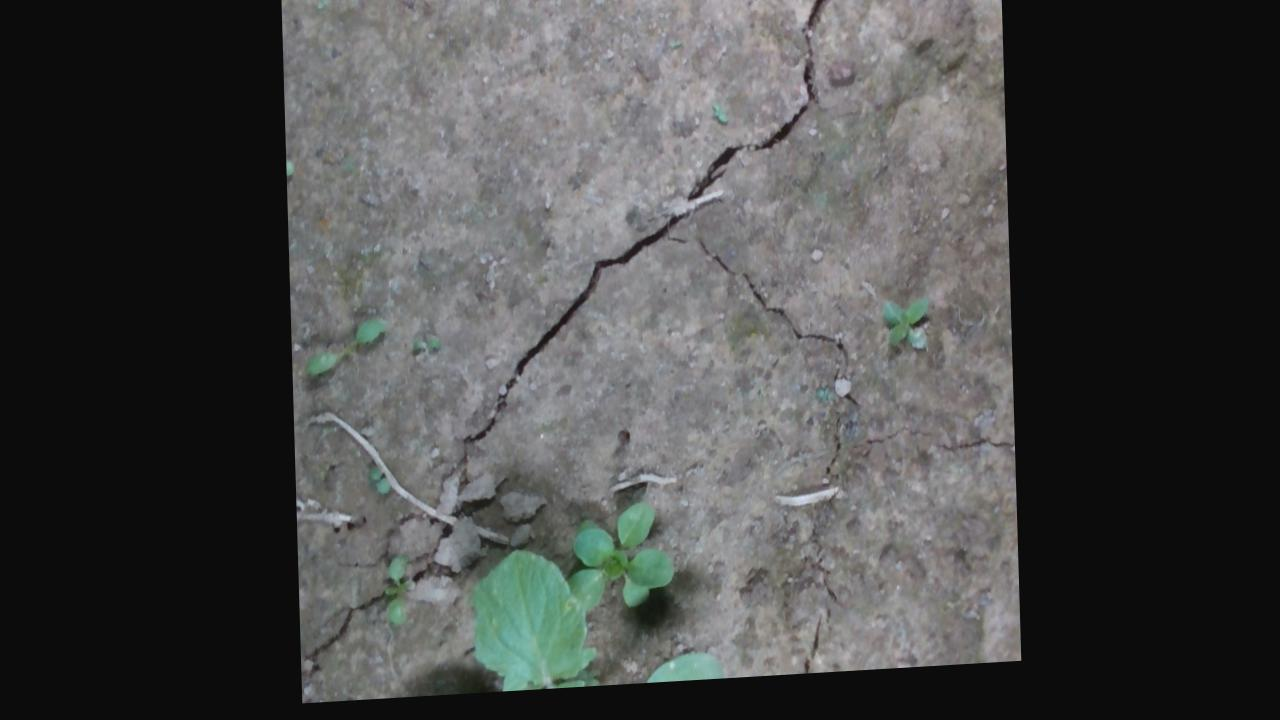weed: (879, 305, 934, 366), (378, 558, 413, 631), (366, 466, 390, 503), (709, 107, 731, 139)
